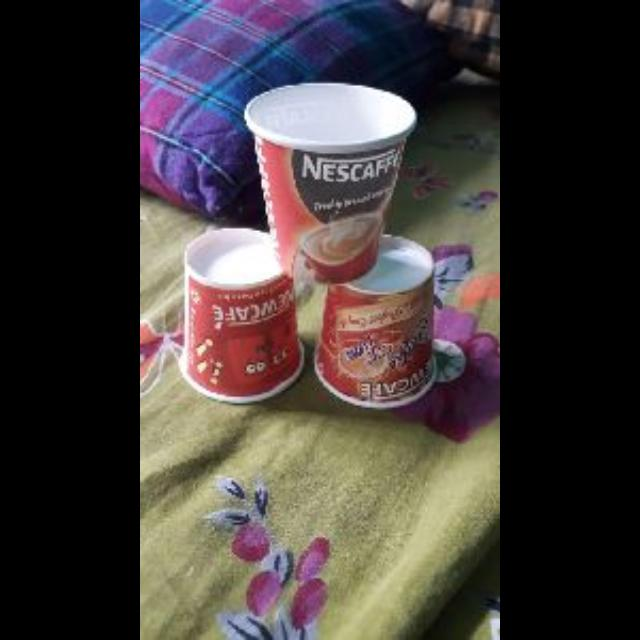trash: (249, 84, 415, 282)
